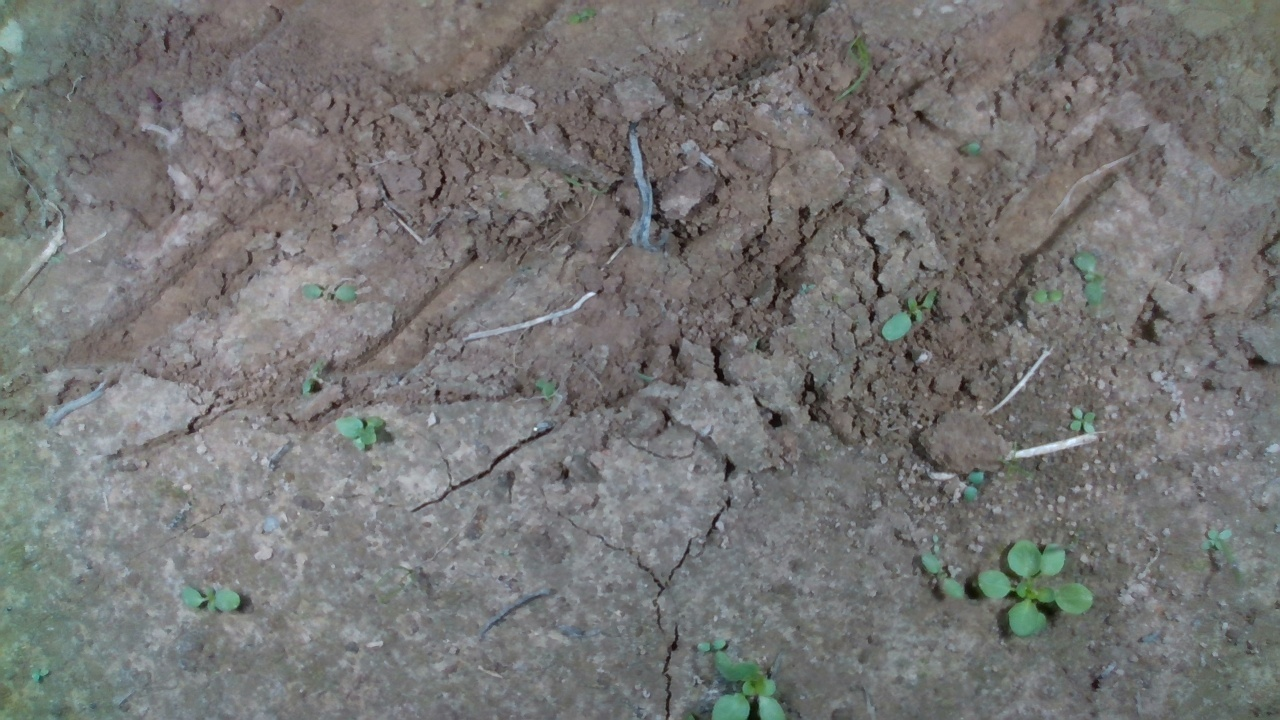weed: (879, 288, 937, 342), (919, 552, 965, 600), (178, 582, 242, 614), (1071, 248, 1105, 305), (300, 283, 359, 303), (1067, 403, 1099, 436), (962, 467, 985, 503), (1028, 287, 1065, 304), (26, 663, 51, 682)
